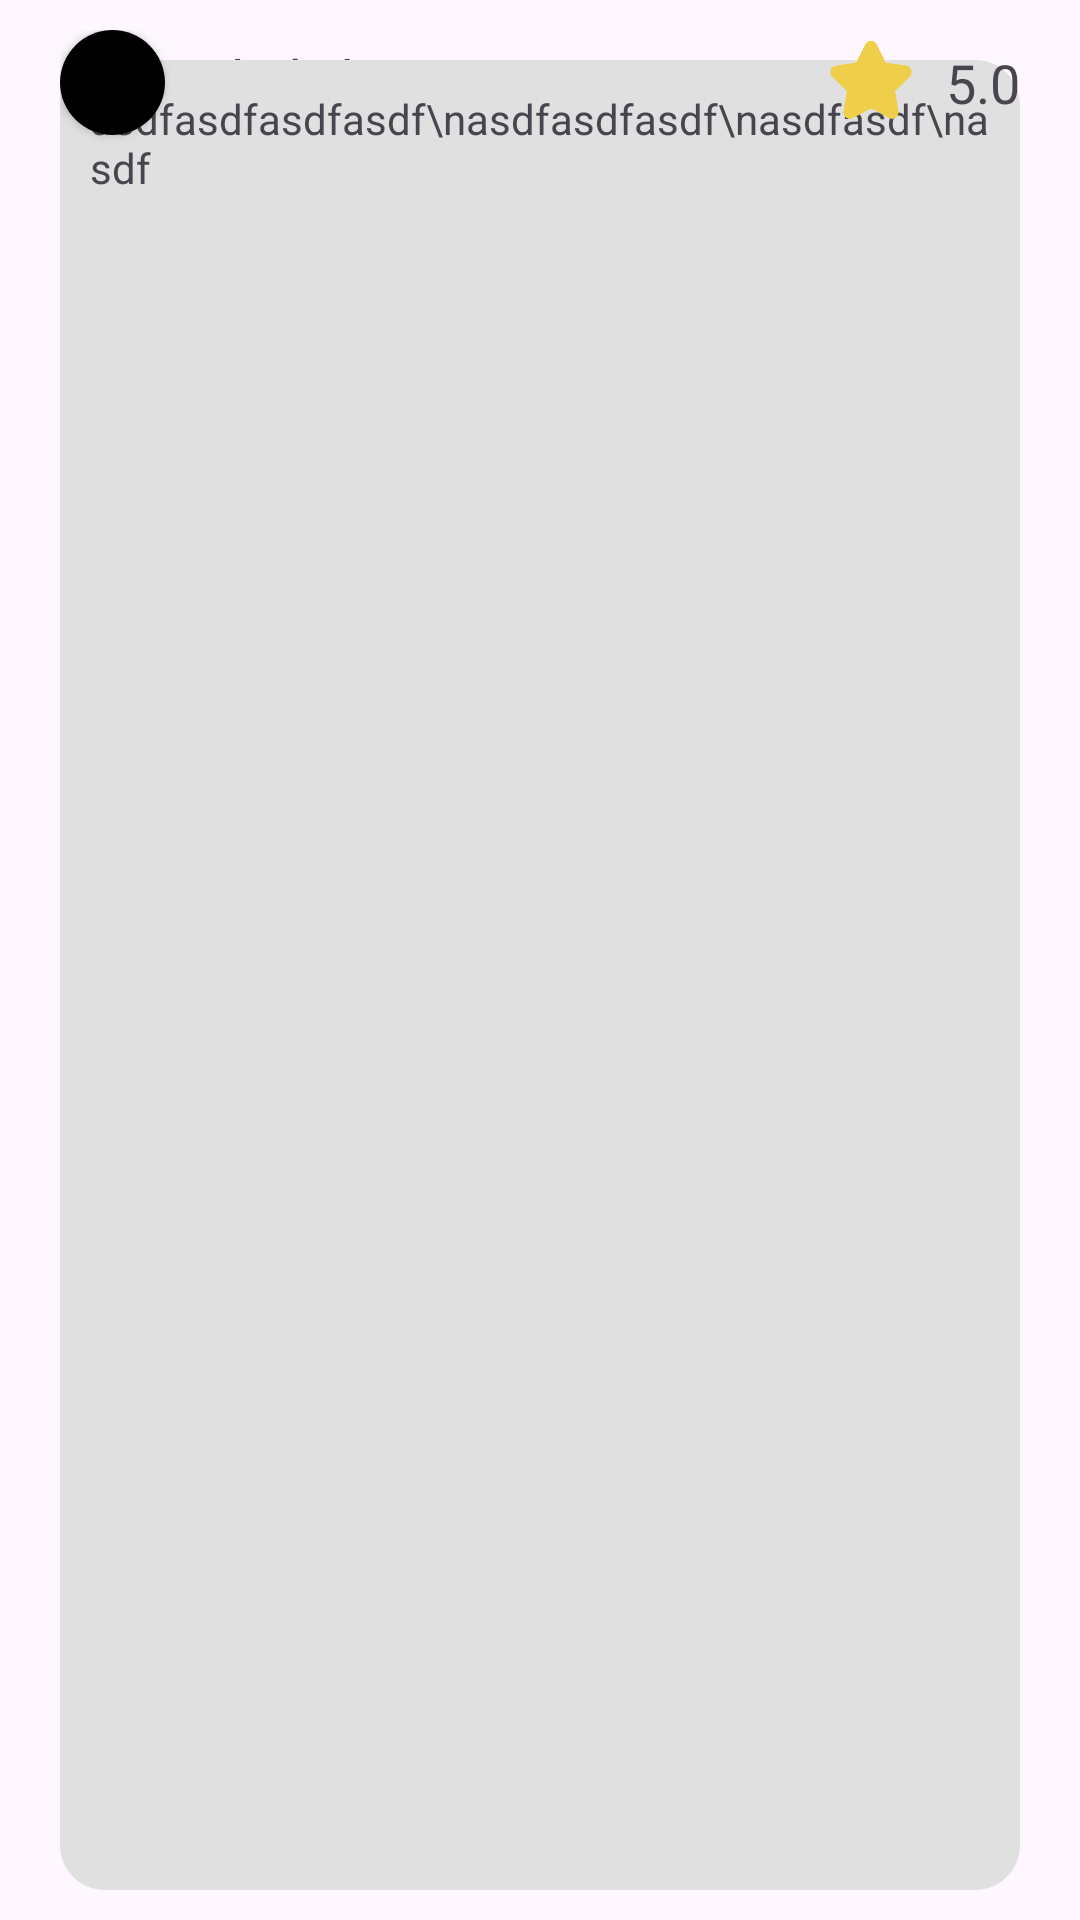

Screen size 1080*1920. Icon name, then its center in pixels as (x=x, y=y):
review star: (x=871, y=83)
